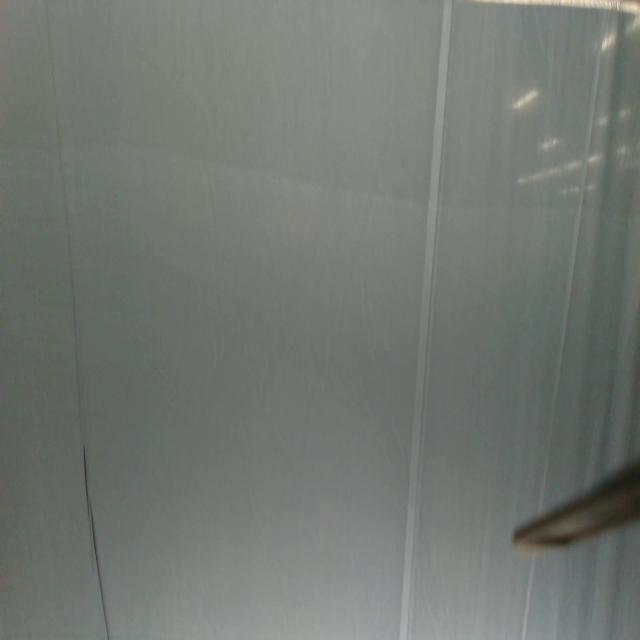color bleeding: (0, 14, 640, 220)
crease: (46, 0, 110, 640), (399, 0, 453, 639), (543, 12, 607, 478), (521, 558, 536, 640)
